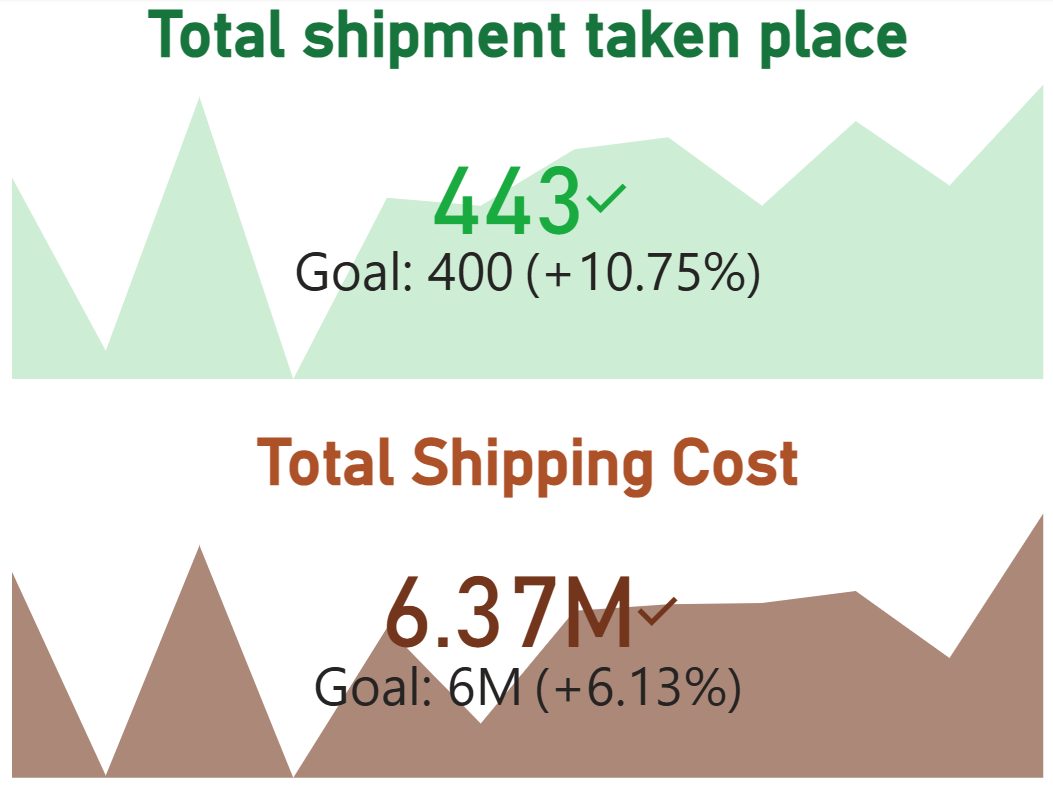

What the dashboard file says about the page in this screenshot:
{"tool":"powerbi","page":{"name":"Tooltip","canvas":[320,240],"ordinal":4},"visuals":[{"type":"kpi","title":"Total shipment taken place","fields":{"TrendLine":["DIM_DATE.Month"],"Goal":["FACT_SHIPMENT.Target"],"Indicator":["CountNonNull(FACT_SHIPMENT.Shipment_ID)"]},"box":[0,0,320,120],"z":0},{"type":"kpi","title":"Total Shipping Cost ","fields":{"Indicator":["Sum(FACT_SHIPMENT.Shipping_Cost)"],"TrendLine":["DIM_DATE.Month"],"Goal":["FACT_SHIPMENT.Cost Target"]},"box":[0,129,320,111],"z":2000}]}

Visuals, with their boxes in screenshot pixels (x1, y1, x2, y2), scaled from the page's 320x240 canvas onto the 1053x786 screenshot:
"Total shipment taken place" kpi: (0,0,1052,393)
"Total Shipping Cost " kpi: (0,422,1052,785)
